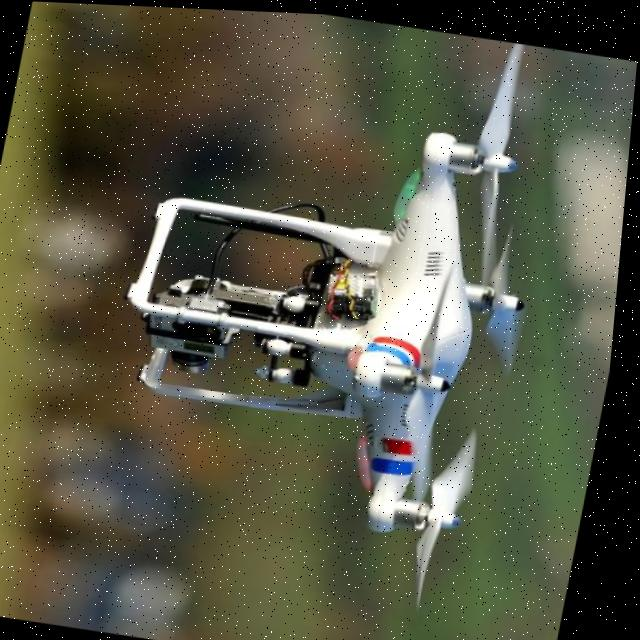drones: (45, 3, 619, 640)
